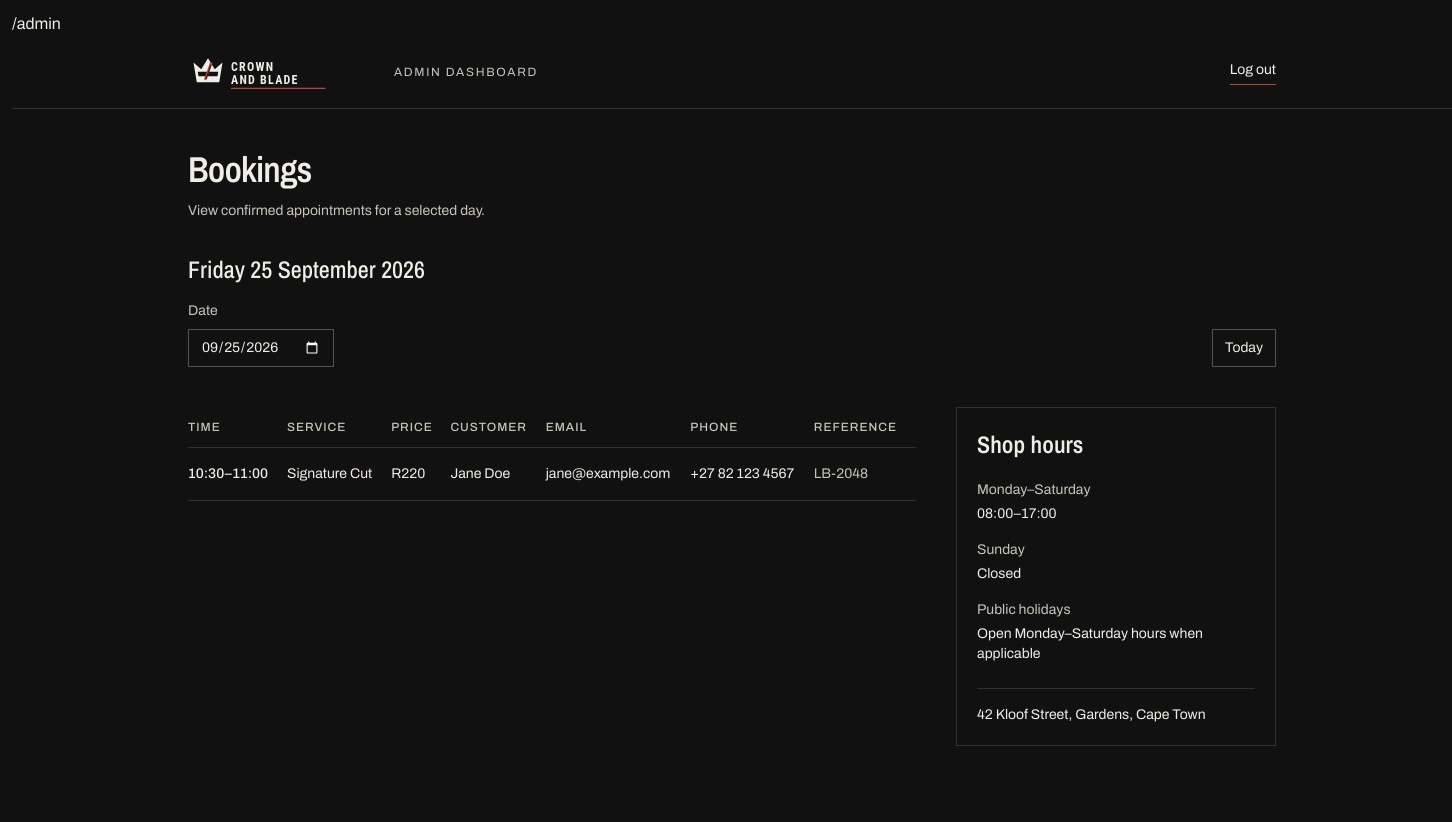
it: admin area › keeps loaded bookings visible when a later date request fails
Expected: the text "Jane Doe" is shown, [450,448,546,500]
Type "2026-09-28" into the date field labelled "Date" at (261, 348), box [188,329,334,367]
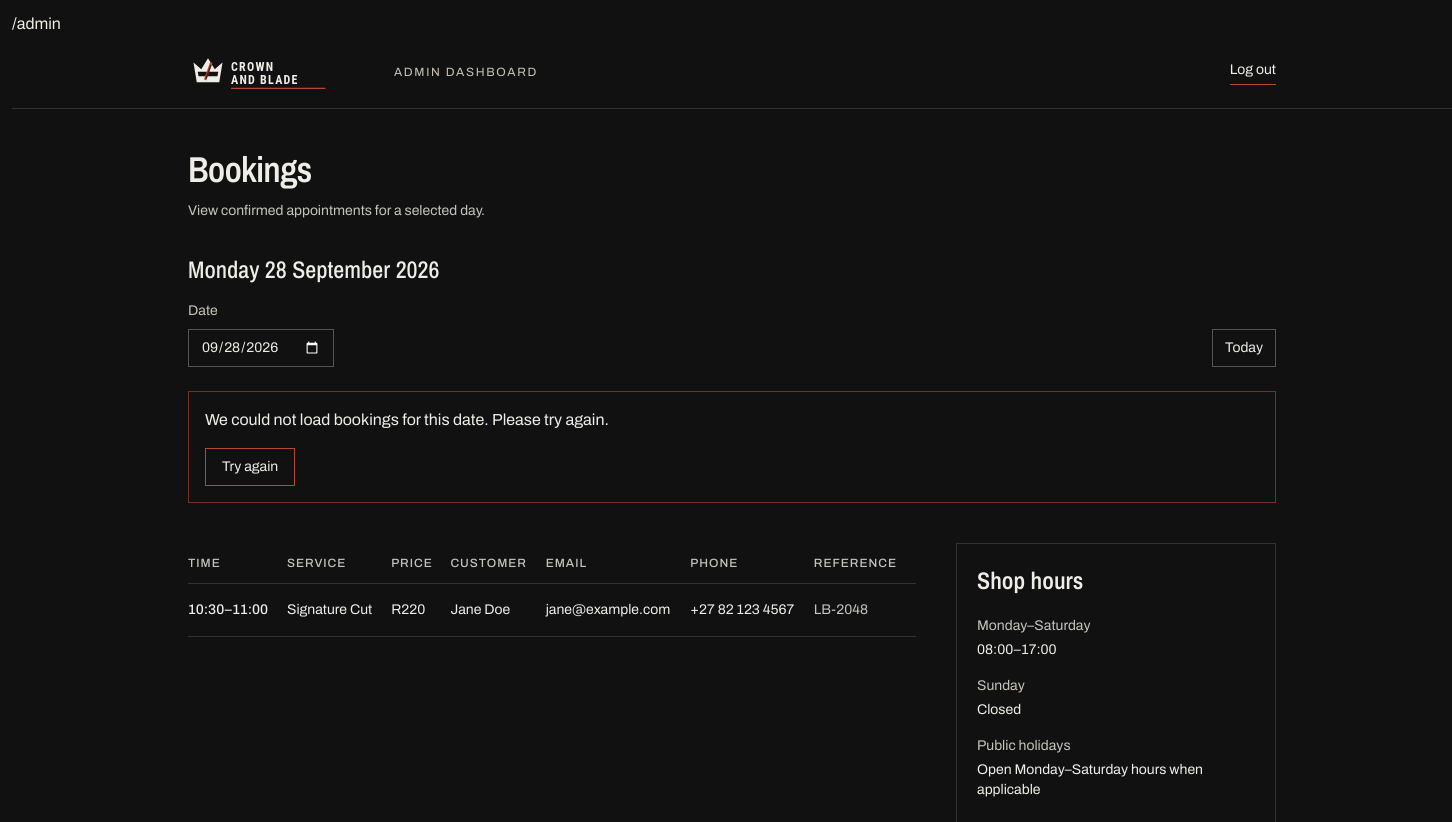
Expected: the text "Jane Doe" is shown, [450,584,546,636]
Now the message shows "We could not load bookings for this date. Please try again.", box [205,411,609,428]
Click the button "Try again" at (250, 467), box [205,448,295,486]
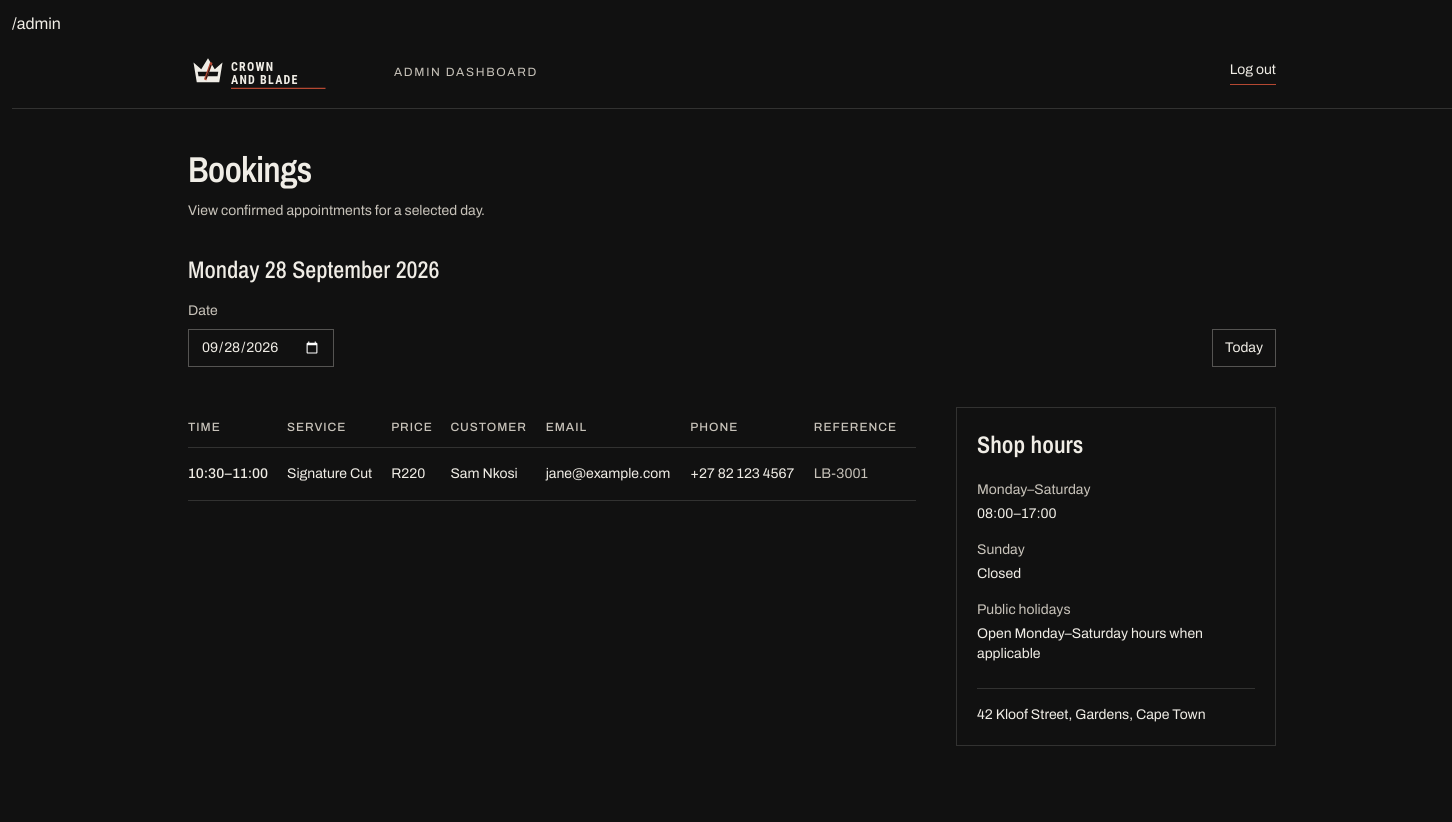
Now the text "Sam Nkosi" is shown, box [450,448,546,500]
Now the text "Jane Doe" is gone
Now the message "We could not load bookings for this date. Please try again. Try again" is gone
